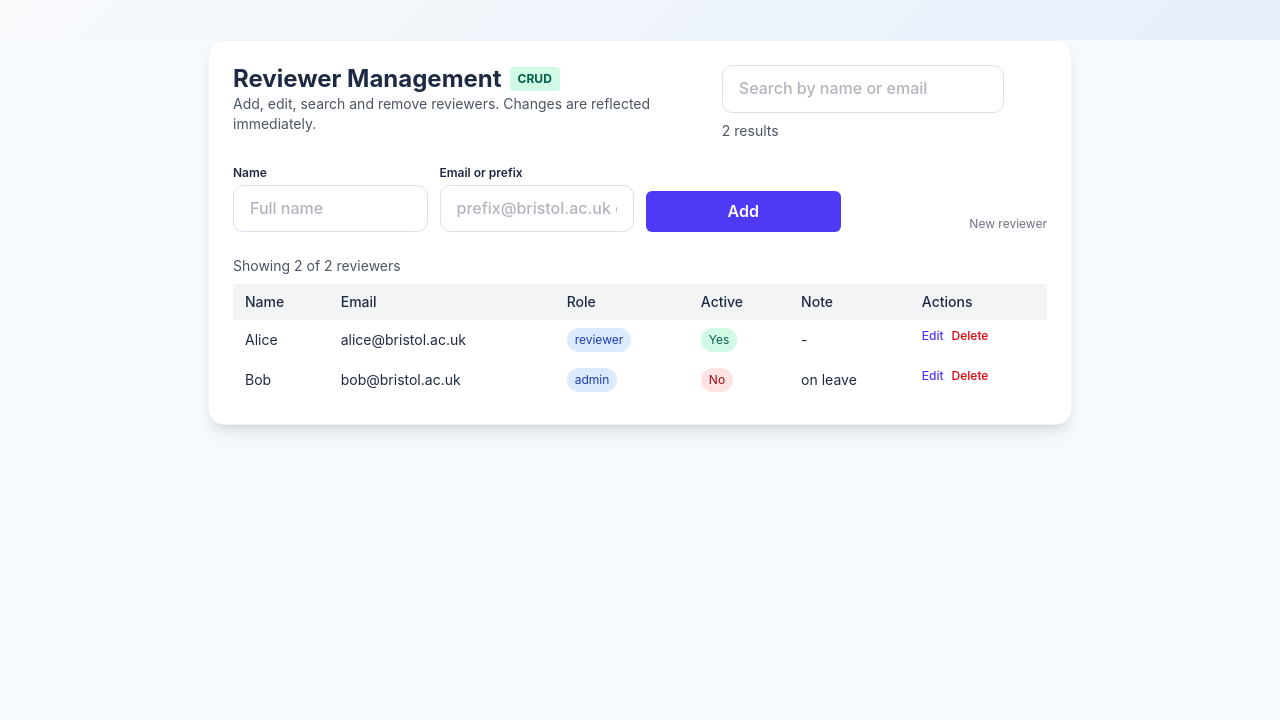
Test: ReviewersPage (MSW-powered) › loads, searches and deletes
Check: the text "Alice" is shown, box [233,320,329,360]
Type "bob" into the field named "search reviewers" at (863, 89), box [722,65,1004,113]
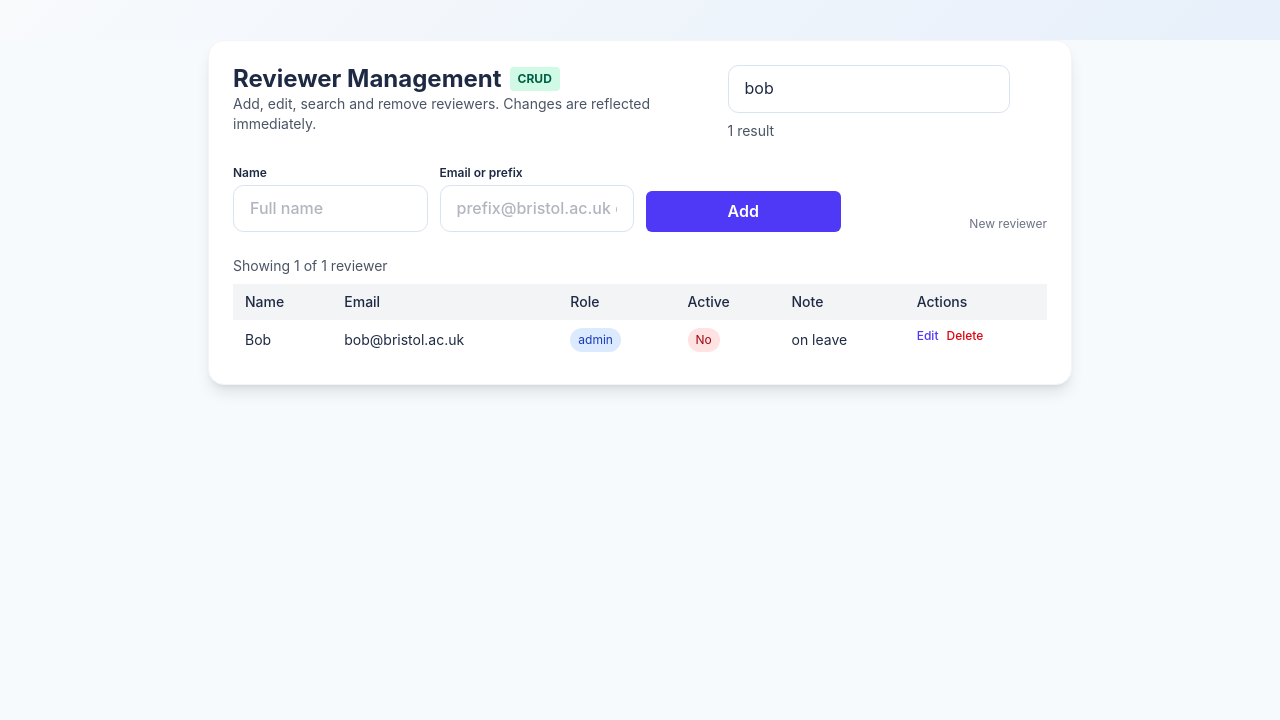
Check: the text "Bob" is shown, box [233,320,332,360]
Check: the text "Alice" is gone
Click the button with aria-label "delete bob@bristol.ac.uk" at (965, 336), box [946,328,983,344]
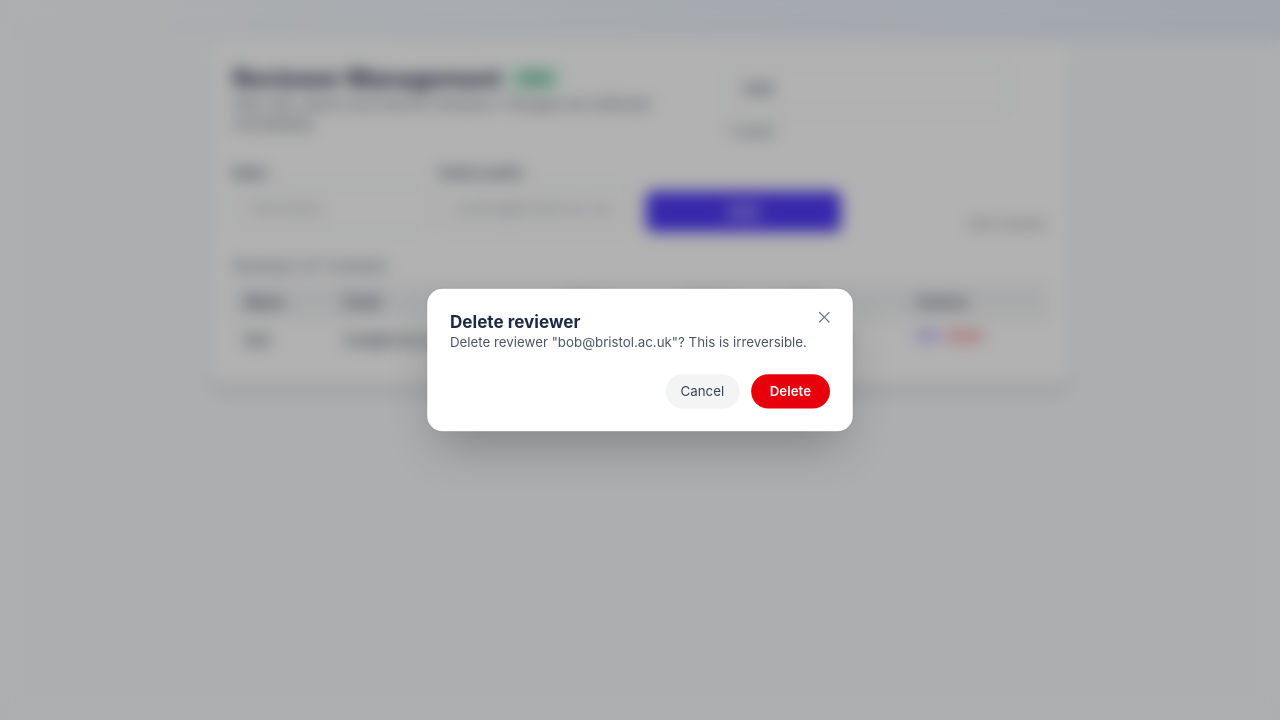
Check: the dialog is shown
Click the button "Delete" at (790, 391), box [751,374,830,408]
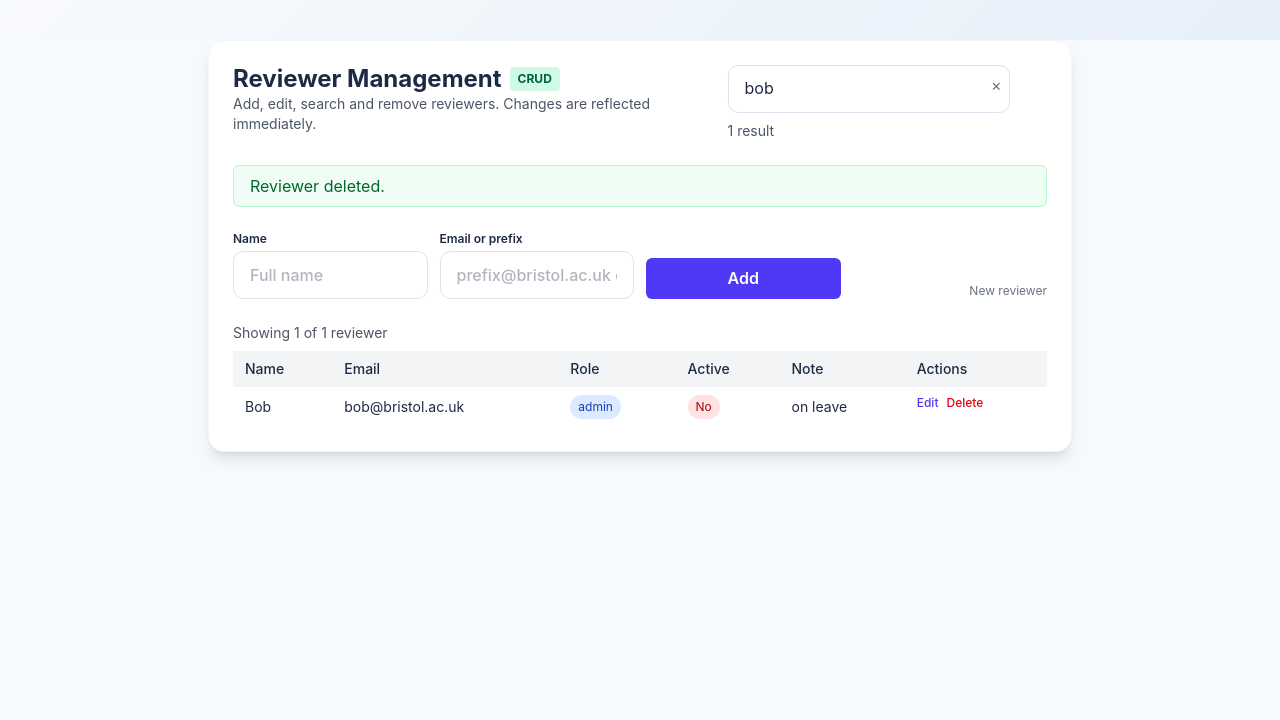
Check: the text "Reviewer deleted." is shown, box [233,165,1047,207]
